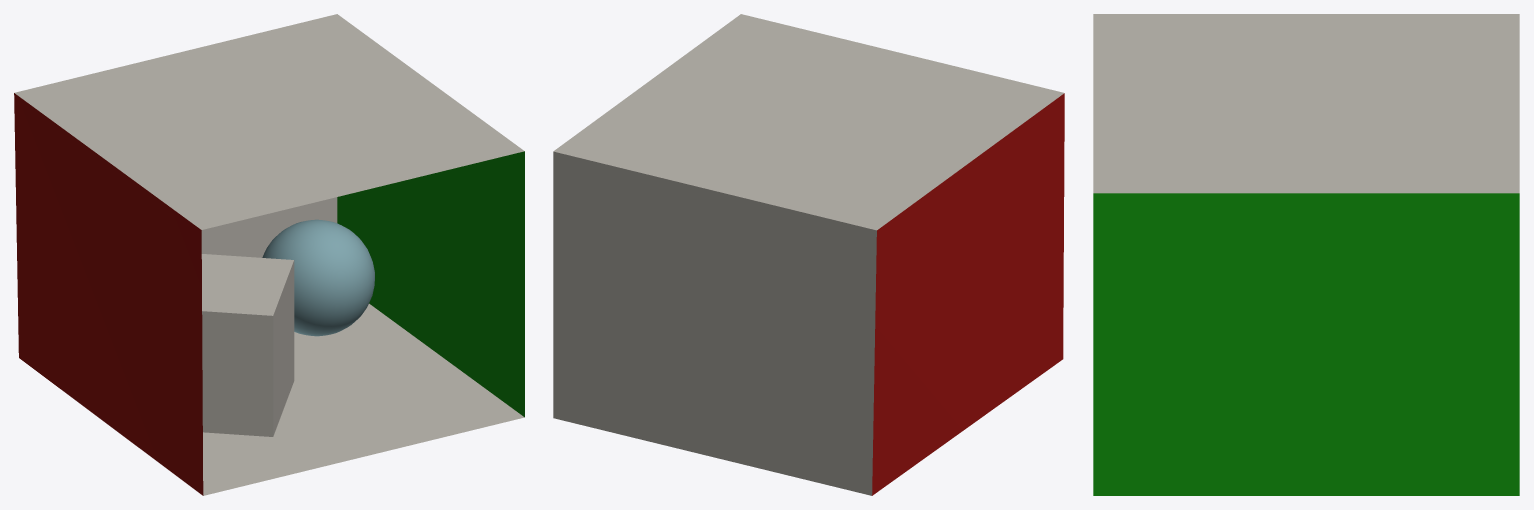
Rendered from Glossy_Result.obj.
3 views of the same model, side by side, from view 1: azimuth 30°, elevation 25°; view 2: azimuth 150°, elevation 25°; view 3: azimuth 270°, elevation 25° (orthographic). The views are drawn at different scales.
Visible parts, largest first — view 1: g g g ceiling_g ceiling_g g ceiling_g ceiling_g g g ceiling_g ce, g g g leftWall_Material__25_Material__25_Material__25, g g g rightWall_Material__47_Material__47_Material__47, g g g floor_g floor_g g floor_g floor_g g g floor_g floor_g g fl, g g g shortBox_Material__49_Material__49_Material__49, g g g sphere_Material__48_Material__48_Material__48, g g g backWall_g backWall_g g backWall_g backWall_g g g backWall; view 2: g g g backWall_g backWall_g g backWall_g backWall_g g g backWall, g g g ceiling_g ceiling_g g ceiling_g ceiling_g g g ceiling_g ce, g g g leftWall_Material__25_Material__25_Material__25; view 3: g g g rightWall_Material__47_Material__47_Material__47, g g g ceiling_g ceiling_g g ceiling_g ceiling_g g g ceiling_g ce.
Boxes of the visible parts, left/top/right/bottom form: g g g ceiling_g ceiling_g g ceiling_g ceiling_g g g ceiling_g ce: left=14, top=14, right=524, bottom=229; g g g leftWall_Material__25_Material__25_Material__25: left=14, top=93, right=203, bottom=495; g g g rightWall_Material__47_Material__47_Material__47: left=337, top=151, right=524, bottom=417; g g g floor_g floor_g g floor_g floor_g g g floor_g floor_g g fl: left=203, top=303, right=524, bottom=495; g g g shortBox_Material__49_Material__49_Material__49: left=201, top=254, right=294, bottom=436; g g g sphere_Material__48_Material__48_Material__48: left=262, top=219, right=374, bottom=336; g g g backWall_g backWall_g g backWall_g backWall_g g g backWall: left=201, top=197, right=337, bottom=257; g g g backWall_g backWall_g g backWall_g backWall_g g g backWall: left=553, top=151, right=876, bottom=495; g g g ceiling_g ceiling_g g ceiling_g ceiling_g g g ceiling_g ce: left=553, top=14, right=1064, bottom=230; g g g leftWall_Material__25_Material__25_Material__25: left=872, top=93, right=1064, bottom=495; g g g rightWall_Material__47_Material__47_Material__47: left=1093, top=193, right=1519, bottom=495; g g g ceiling_g ceiling_g g ceiling_g ceiling_g g g ceiling_g ce: left=1093, top=14, right=1519, bottom=193.
Size of the model in its own units: 2.02 by 1.59 by 2.03.
5 materials, 5 textured.
